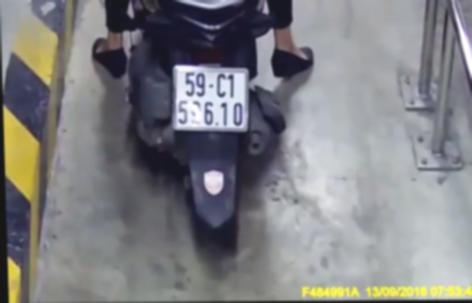License_Plate: (166, 61, 255, 138)
